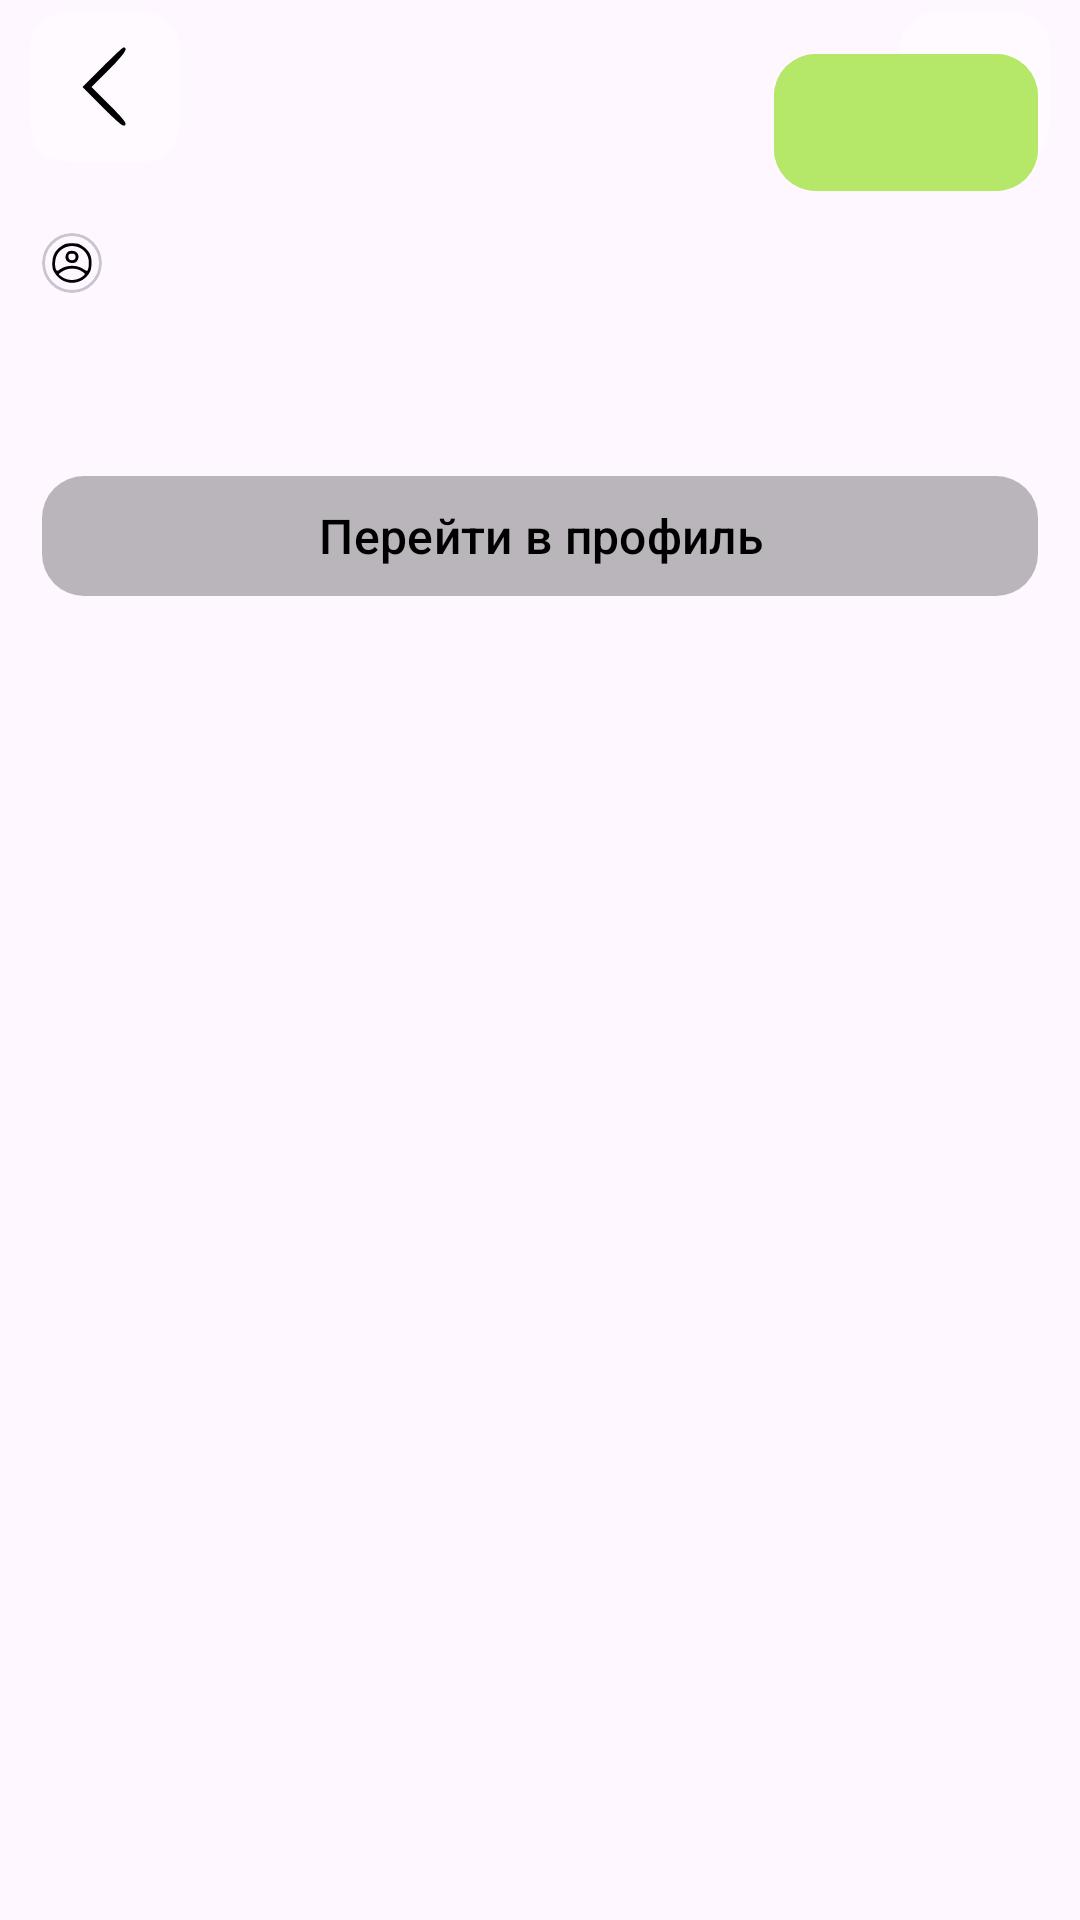

Where to tap for icons on this 1080 × 1920 app screen, as (x=x, y=y):
Иконка назад: (x=104, y=86)
Фото профиля автора: (x=72, y=263)
